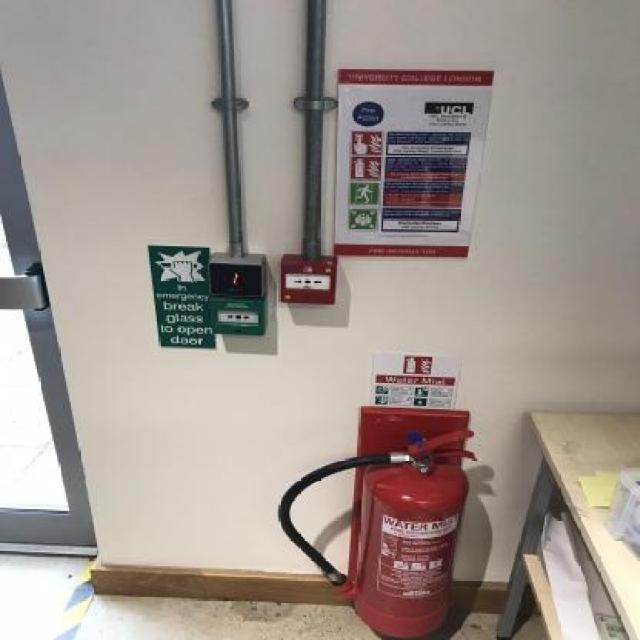fire extinguisher: (277, 427, 480, 640)
